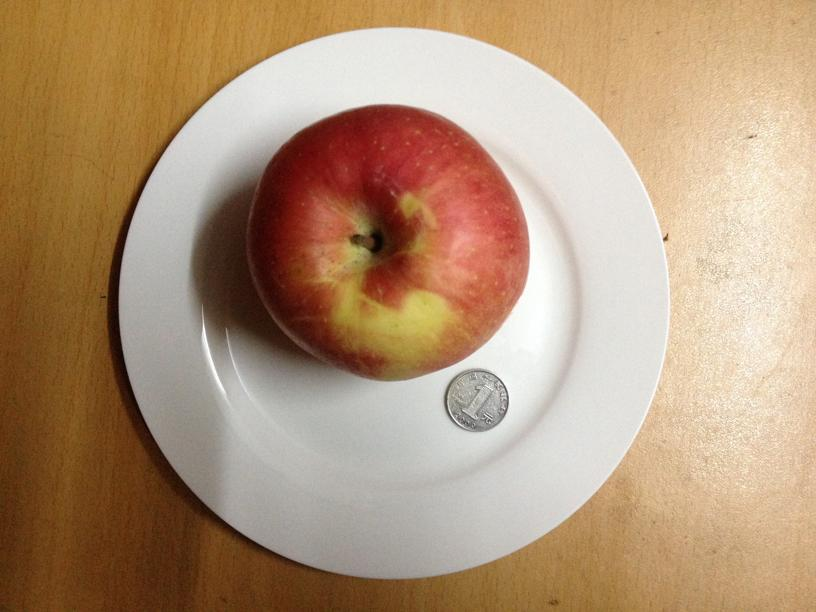apple: (251, 100, 530, 383)
coin: (447, 369, 509, 431)
